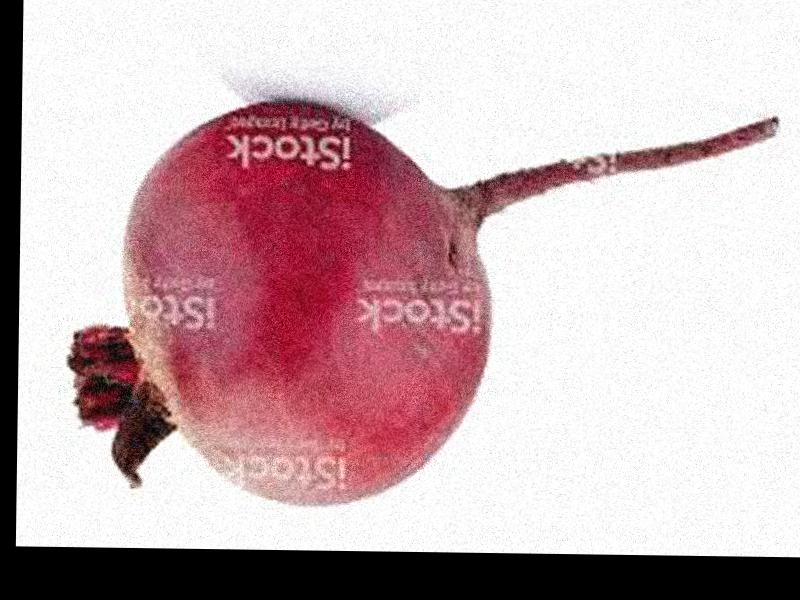Beet: (68, 98, 775, 509)
